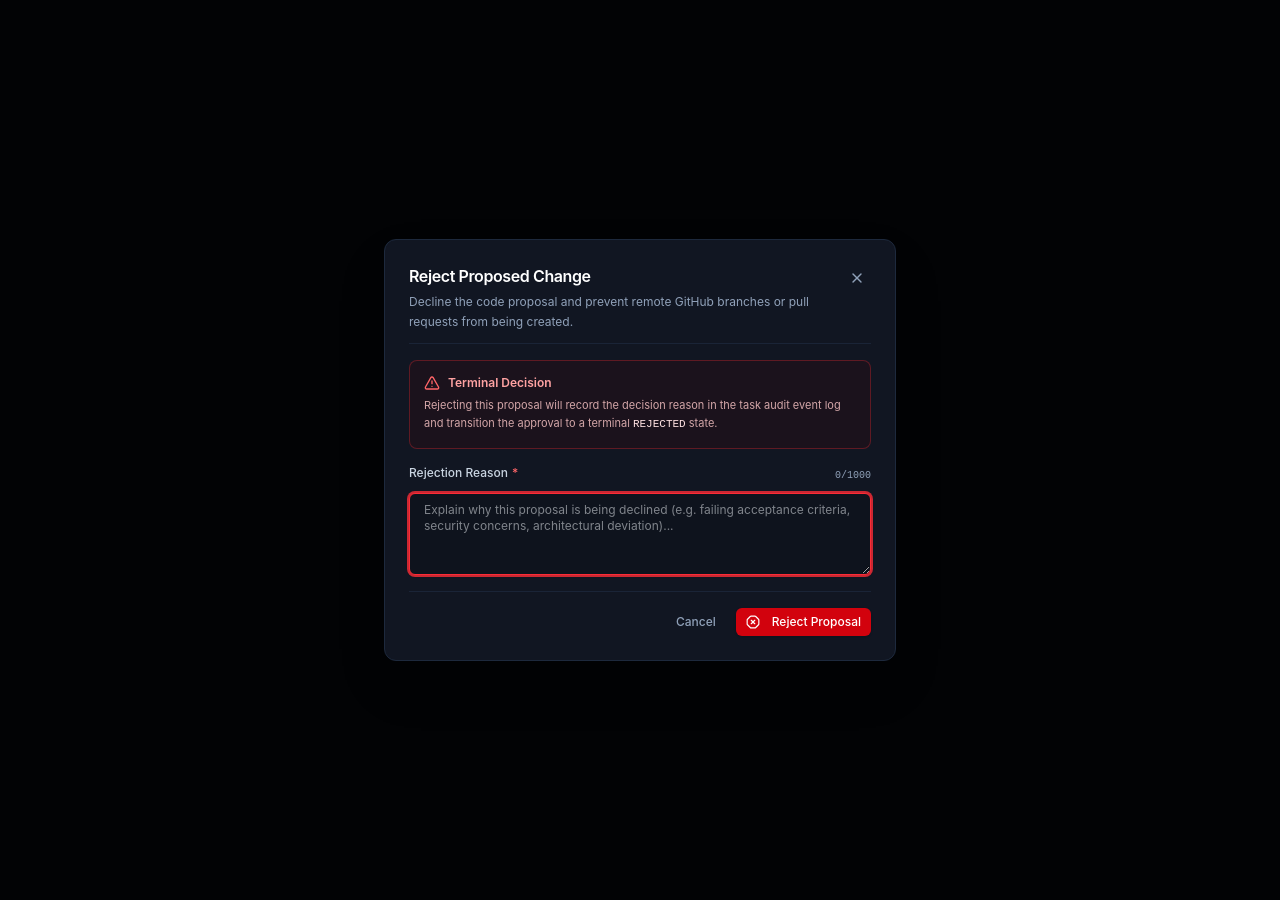
Test: RejectDialog › handles backend 403 forbidden error when user lacks decider permissions
The width and height of the screenshot is (1280, 900).
In the text box labelled "Rejection Reason*": (640, 534) [409,493,871,575], type "Declined due to security concern"
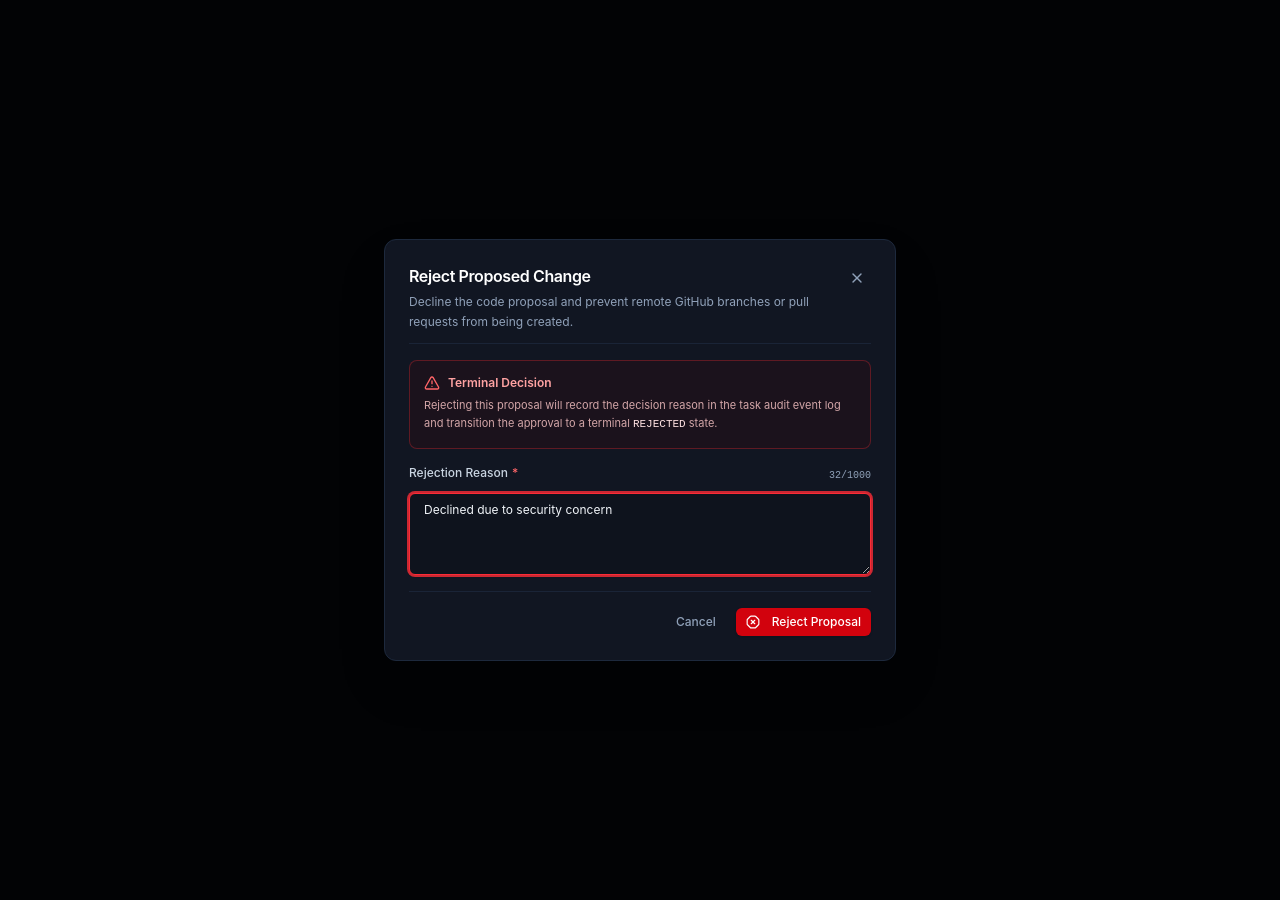
Click the button "Reject Proposal": (803, 622) [736,608,871,636]
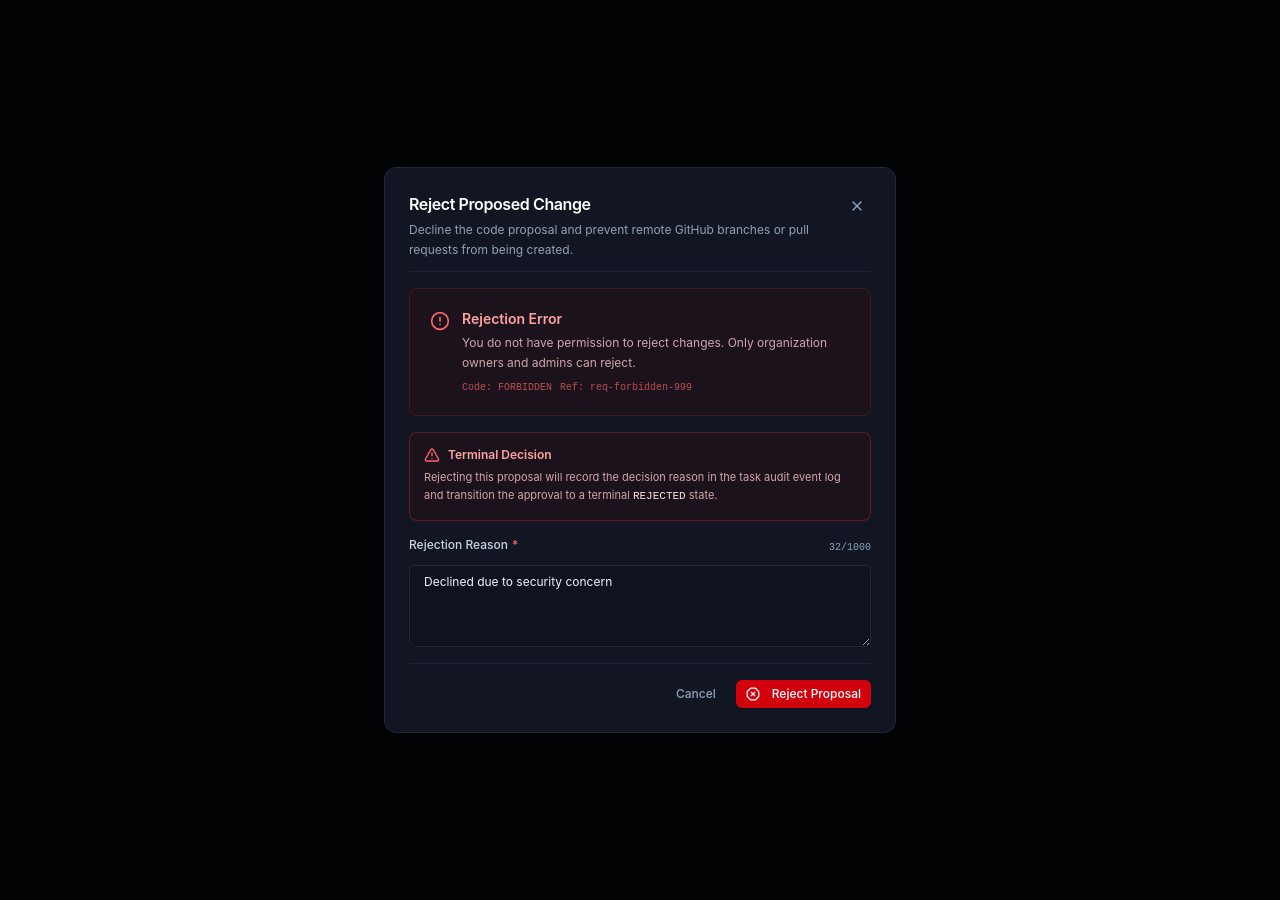
Expected: the heading "Rejection Error" is shown, [462,310,562,327]
Expected: the text "You do not have permission to reject changes" is shown, [462,335,827,370]
